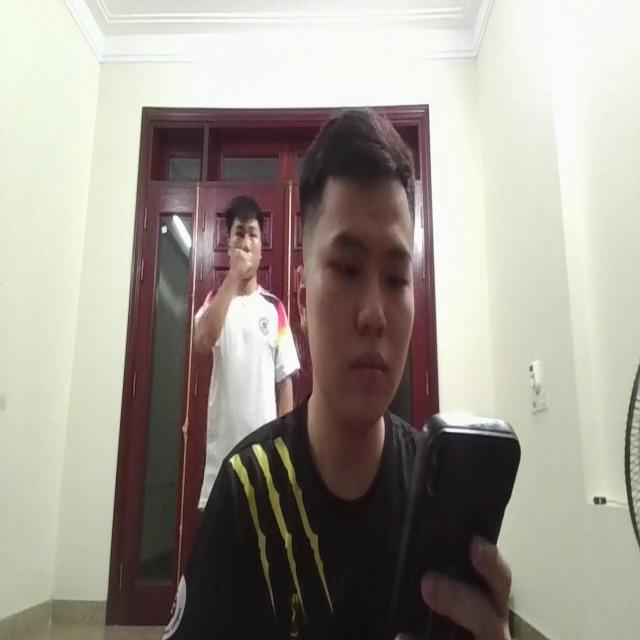extra_person: (196, 204, 294, 471)
phone: (396, 399, 517, 640)
student: (196, 108, 498, 640)
